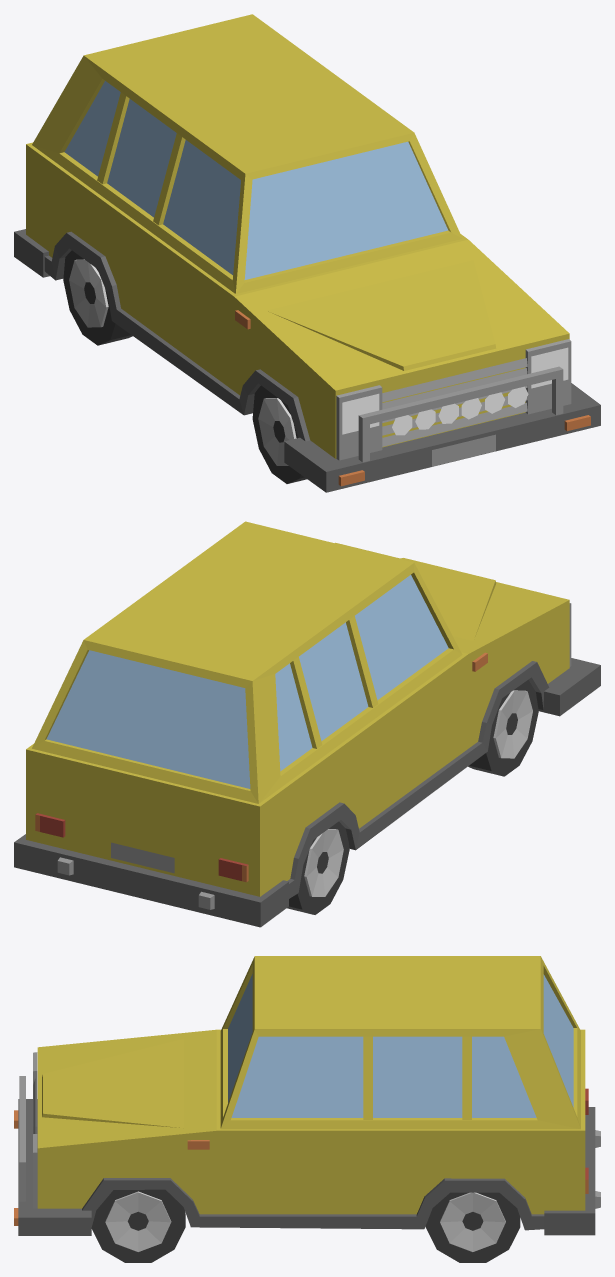
The model's file is transport_cool_009.fbx.
The picture shows the model from 3 angles, top to bottom: view 1: azimuth 30°, elevation 25°; view 2: azimuth 150°, elevation 25°; view 3: azimuth 270°, elevation 25°; orthographic projection. The views are drawn at different scales.
Parts seen in each view (by area): view 1: transport_cool_009; view 2: transport_cool_009; view 3: transport_cool_009.
Part boxes in pixels (left/top/right/bottom): transport_cool_009: left=14, top=14, right=600, bottom=492; transport_cool_009: left=14, top=521, right=600, bottom=927; transport_cool_009: left=14, top=956, right=600, bottom=1262.
Bounding box in the file's own units: 170 × 147 × 355.
